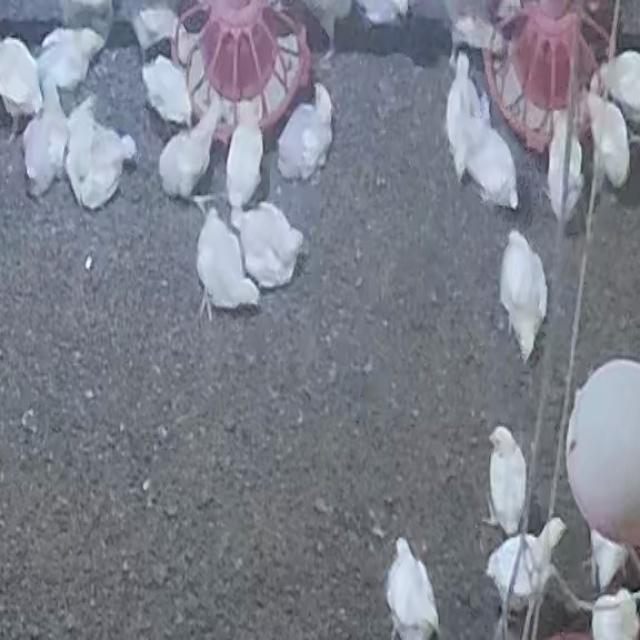chicken: (487, 512, 571, 623), (64, 96, 136, 209), (157, 97, 223, 202), (499, 228, 548, 364), (193, 218, 259, 311), (22, 80, 72, 198), (385, 536, 440, 640), (277, 80, 334, 179), (458, 116, 518, 209), (237, 207, 300, 287), (485, 425, 528, 538), (36, 28, 105, 98), (585, 90, 630, 196), (545, 112, 586, 228), (0, 36, 45, 133), (139, 53, 195, 129), (225, 104, 265, 210), (444, 54, 485, 157)
